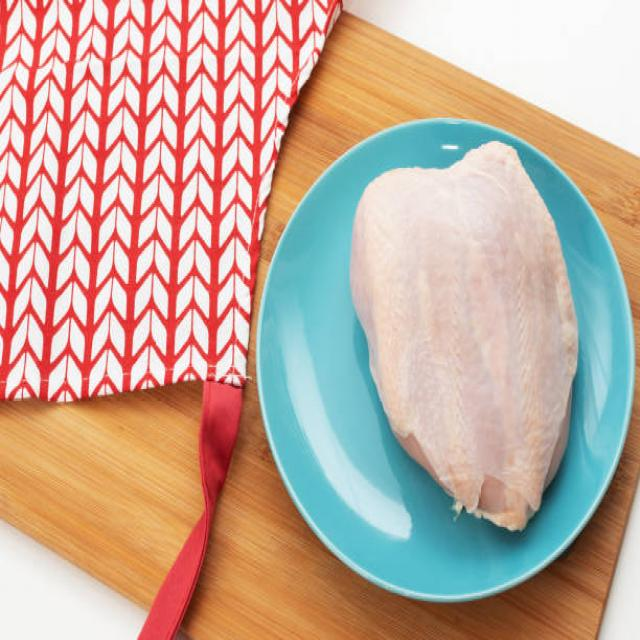Chicken: (348, 132, 586, 532)
